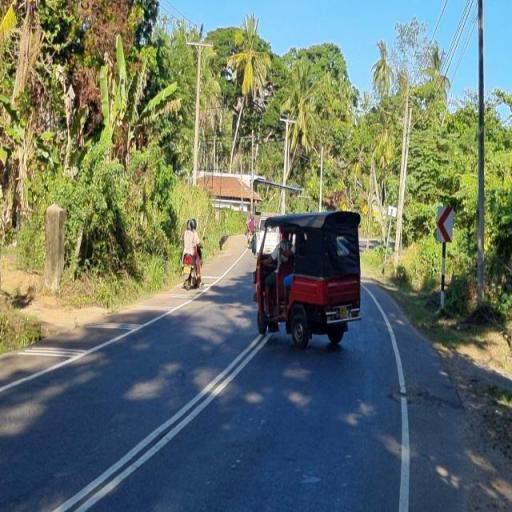double_white_line: (50, 331, 272, 511)
